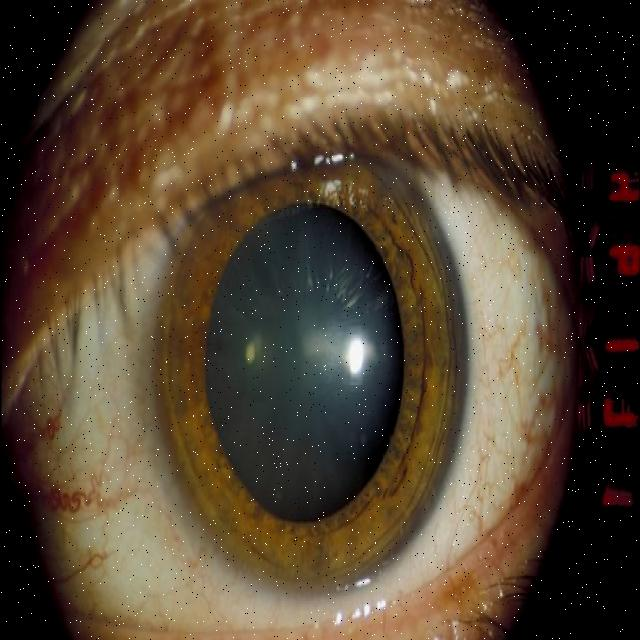Cataract: (134, 106, 484, 601)
